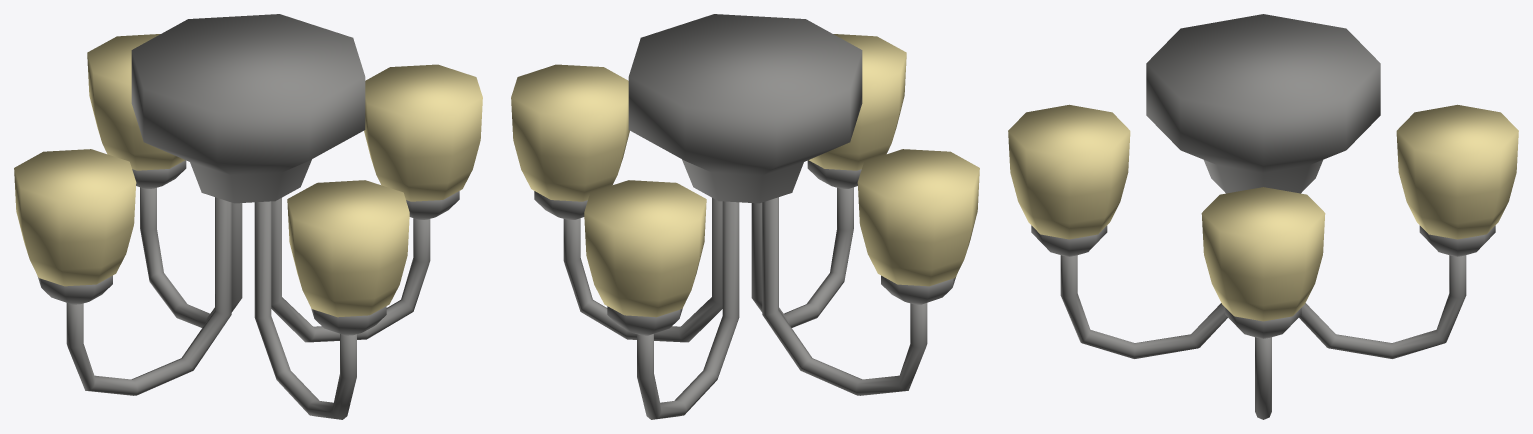
File: Light_Chandelier.glb
3 views of the same model, side by side, from view 1: azimuth 30°, elevation 25°; view 2: azimuth 150°, elevation 25°; view 3: azimuth 270°, elevation 25° (orthographic). The views are drawn at different scales.
Visible parts, largest first — view 1: Light_Chandelier; view 2: Light_Chandelier; view 3: Light_Chandelier.
Boxes of the visible parts, <box> form: Light_Chandelier: <box>14,14,482,419</box>; Light_Chandelier: <box>511,14,979,419</box>; Light_Chandelier: <box>1008,14,1518,419</box>.
Size of the model in its own units: 0.8131 by 0.5188 by 0.8131.
